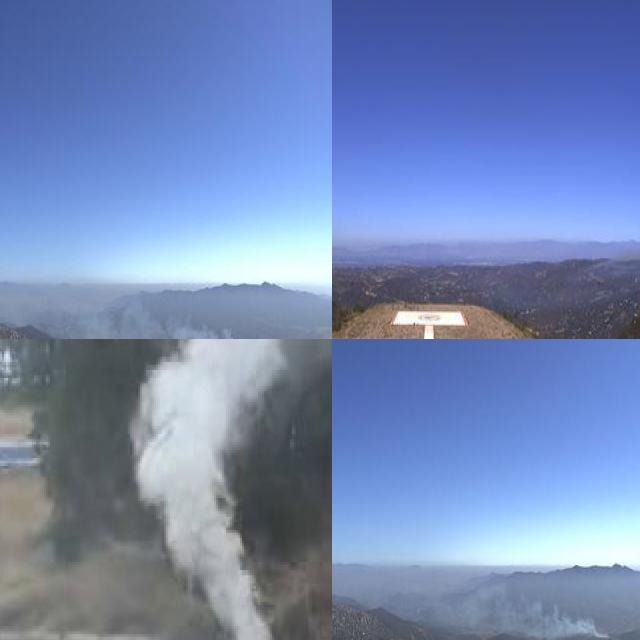smoke: (126, 339, 332, 640), (0, 277, 257, 339), (425, 582, 609, 640)
